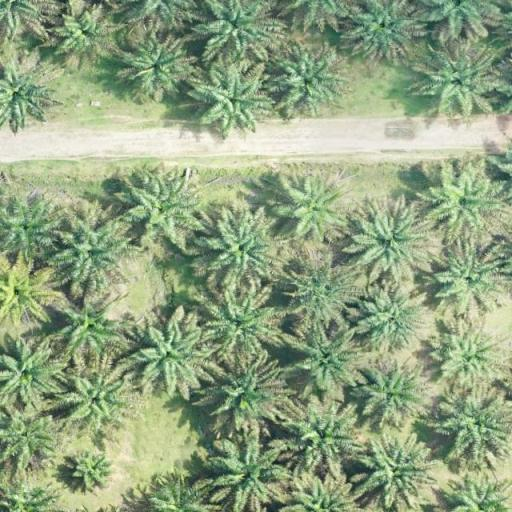Ganoderma: (0, 274, 33, 312)
